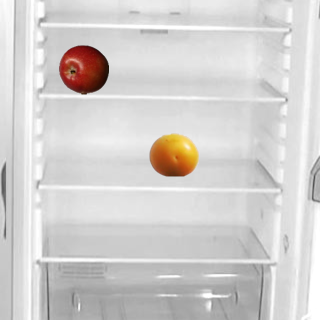Apple Braeburn: (58, 44, 108, 94)
Cherry Wax Yellow: (148, 129, 198, 179)
